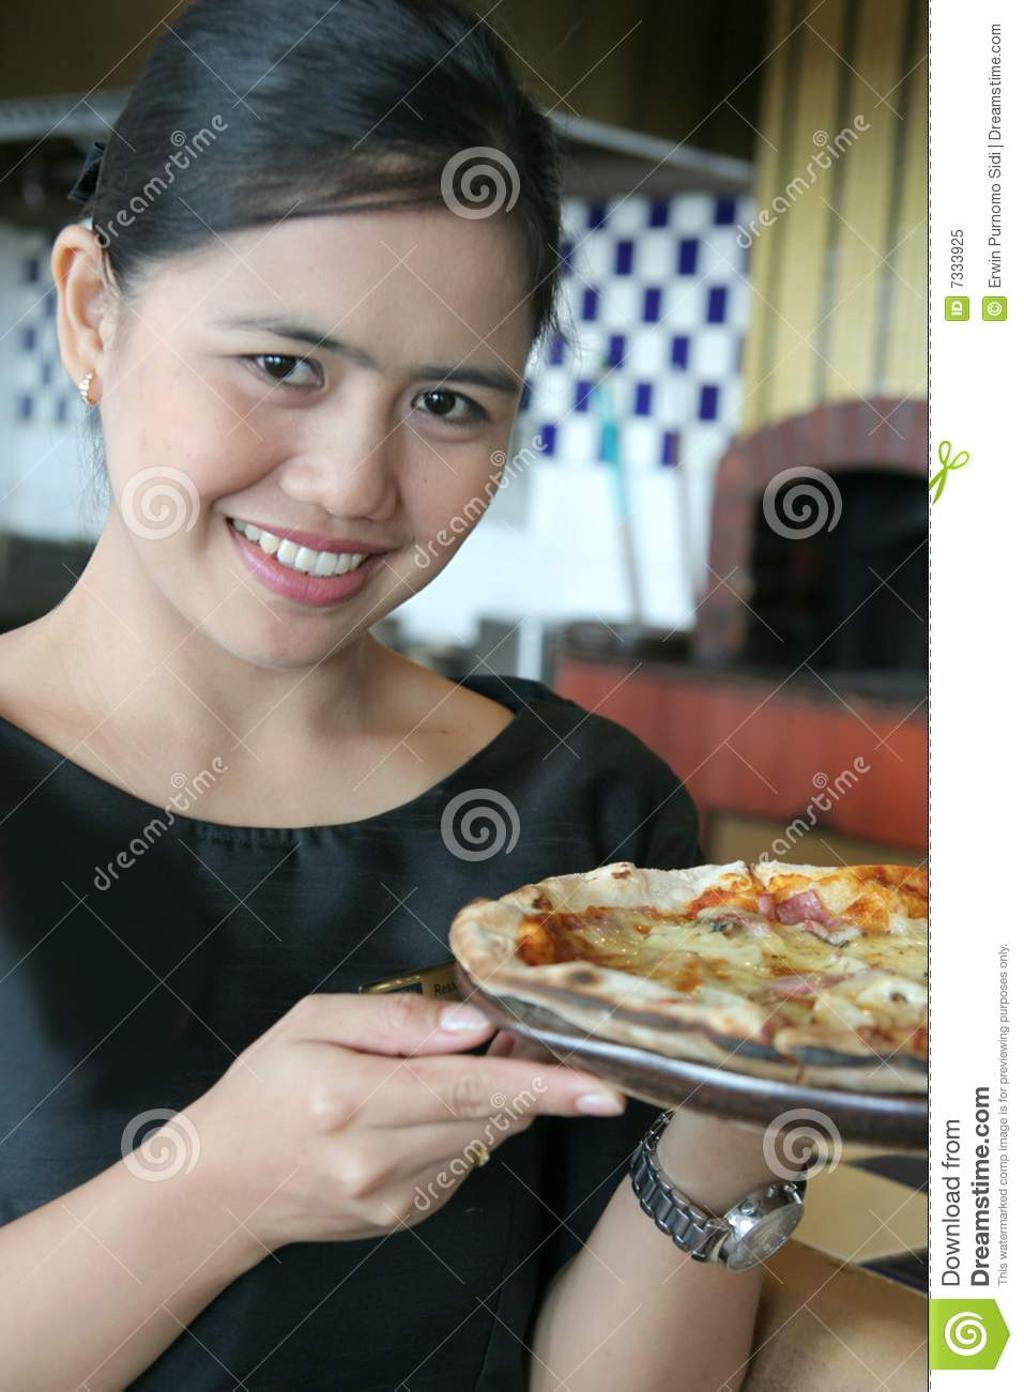face: (106, 128, 532, 666)
